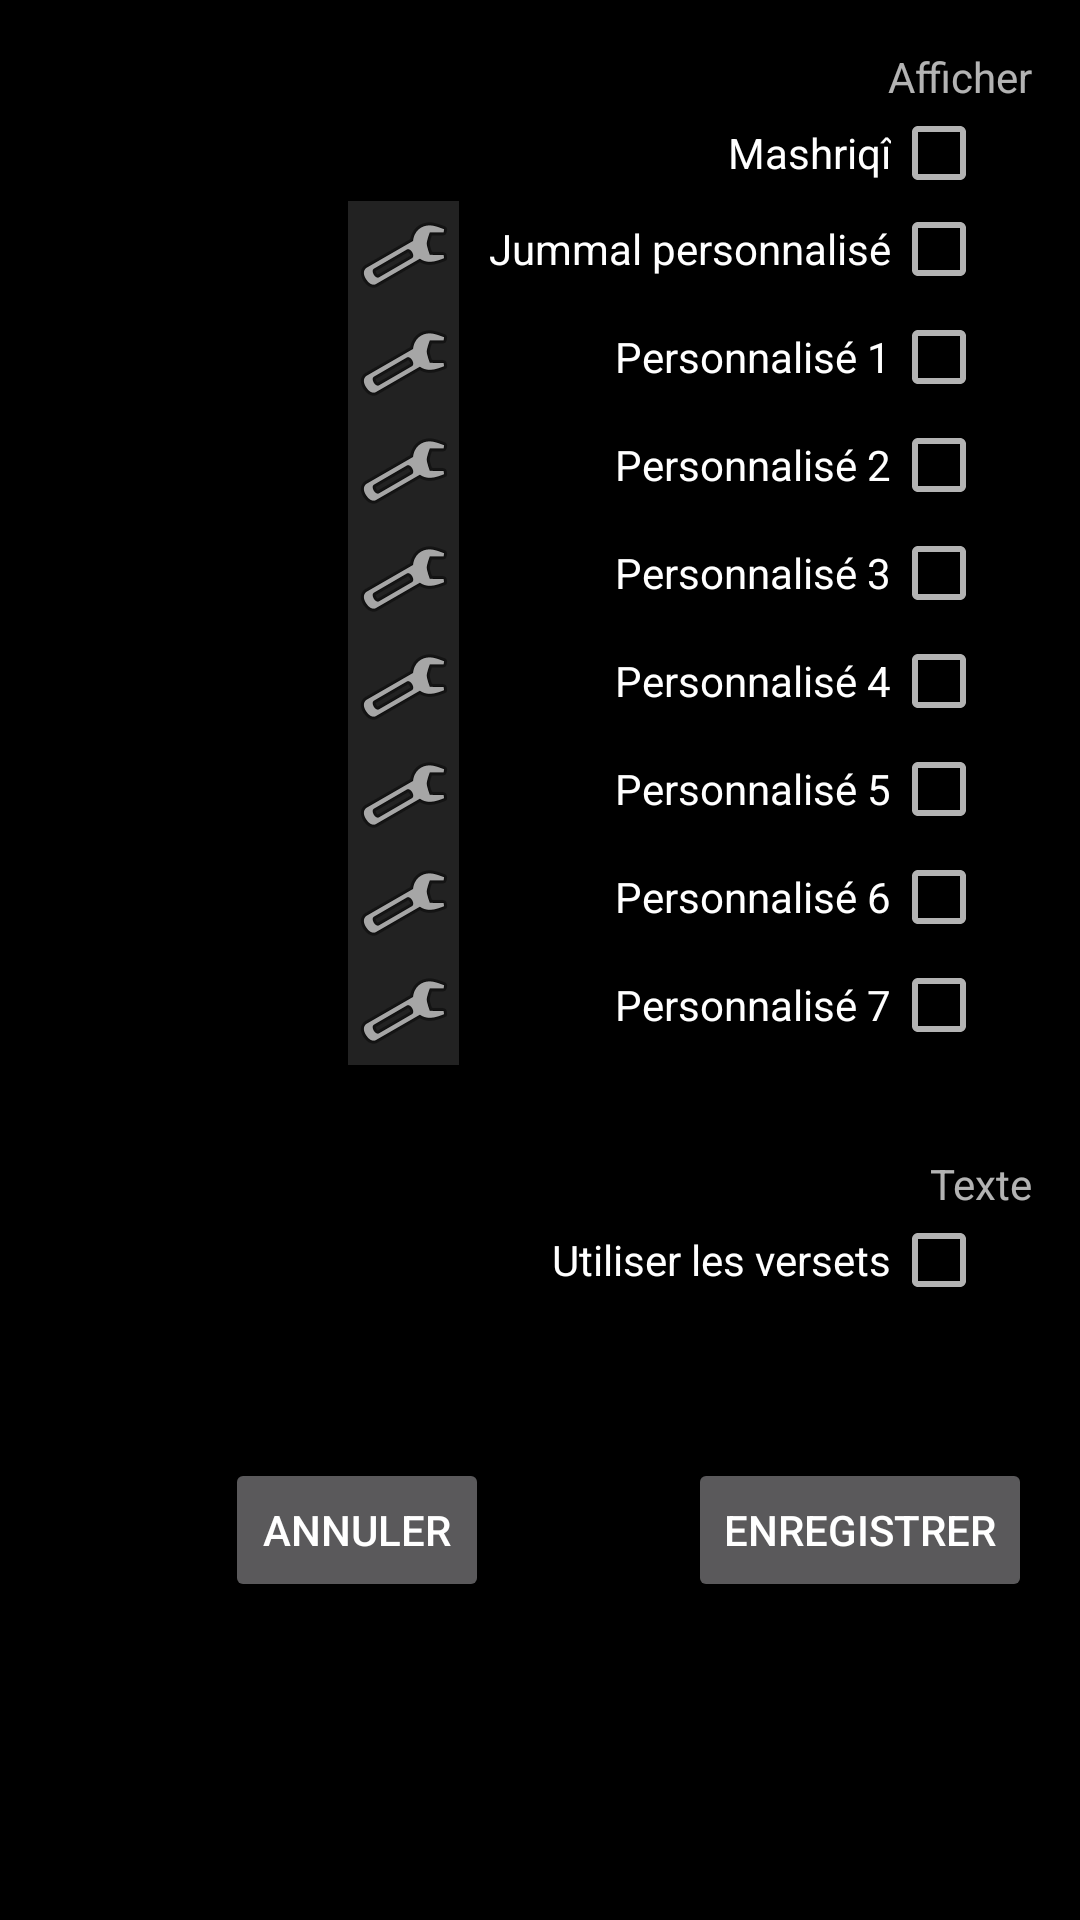

Where to tap for icons on this 1080*1920 app screen, as [x,y]:
preferences: [403,255], [404,363], [404,471], [404,579], [404,687], [404,795], [404,903], [403,1011]
